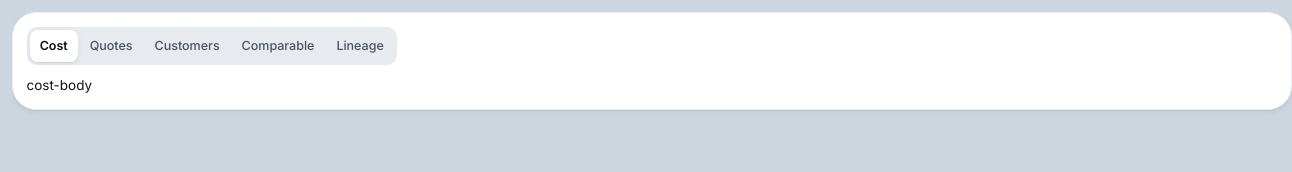
EvidenceTabs › clicking an enabled tab updates the ?tab= URL param and switches pane
Click the tab with test id "evidence-tab-customers" at {"x": 187, "y": 46}, box [144, 30, 230, 62]
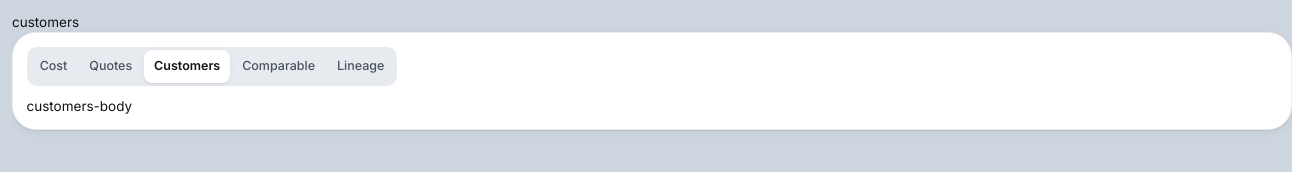
Now the text with test id "url-probe-tab" reads "customers", box [12, 14, 79, 30]
Now the text "customers-body" is shown, box [26, 98, 132, 114]
Now the text with test id "pane-body-cost" is gone
